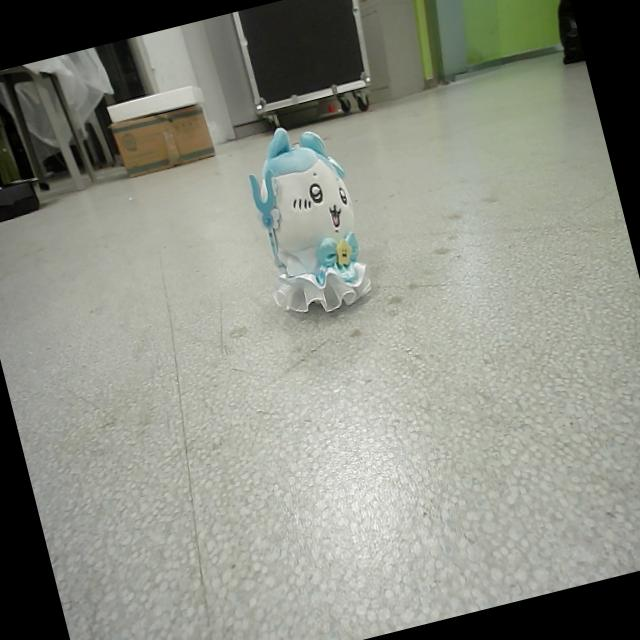xiaoba: (238, 109, 380, 323)
